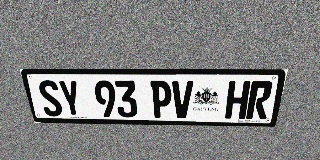3: (114, 80, 138, 117)
9: (93, 80, 118, 117)
H: (225, 81, 251, 119)
P: (150, 81, 171, 118)
R: (246, 81, 274, 119)
S: (36, 80, 64, 116)
V: (172, 81, 193, 118)
Y: (57, 80, 83, 117)
